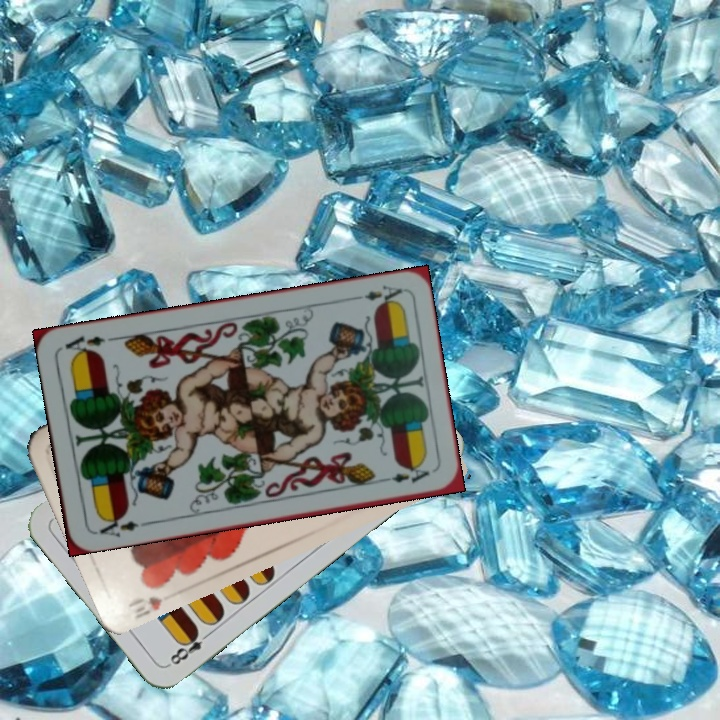E8: (164, 625, 214, 669)
EA: (346, 281, 405, 308), (96, 510, 141, 540)
H10: (123, 592, 165, 621)
